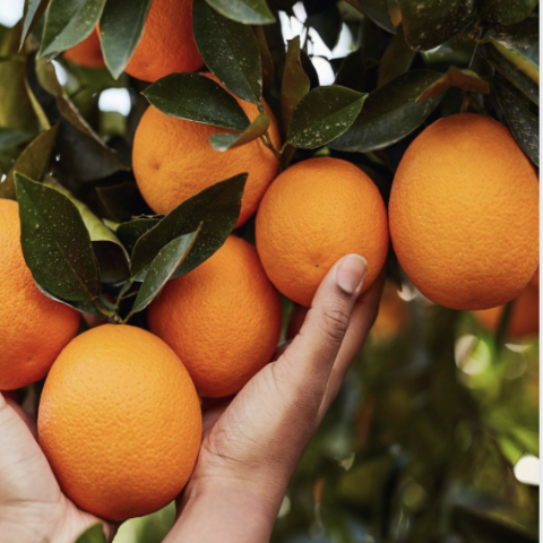orange: (21, 318, 214, 516), (364, 100, 537, 313), (248, 137, 396, 314)
